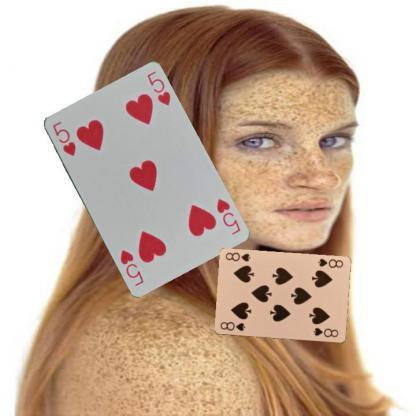5h: (213, 196, 242, 236), (50, 118, 77, 158)
8s: (315, 256, 344, 270), (218, 320, 247, 332)
